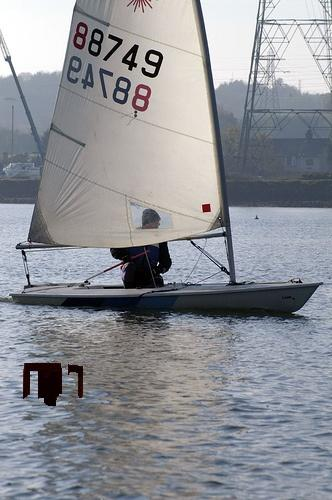tampered: (23, 364, 83, 406)
